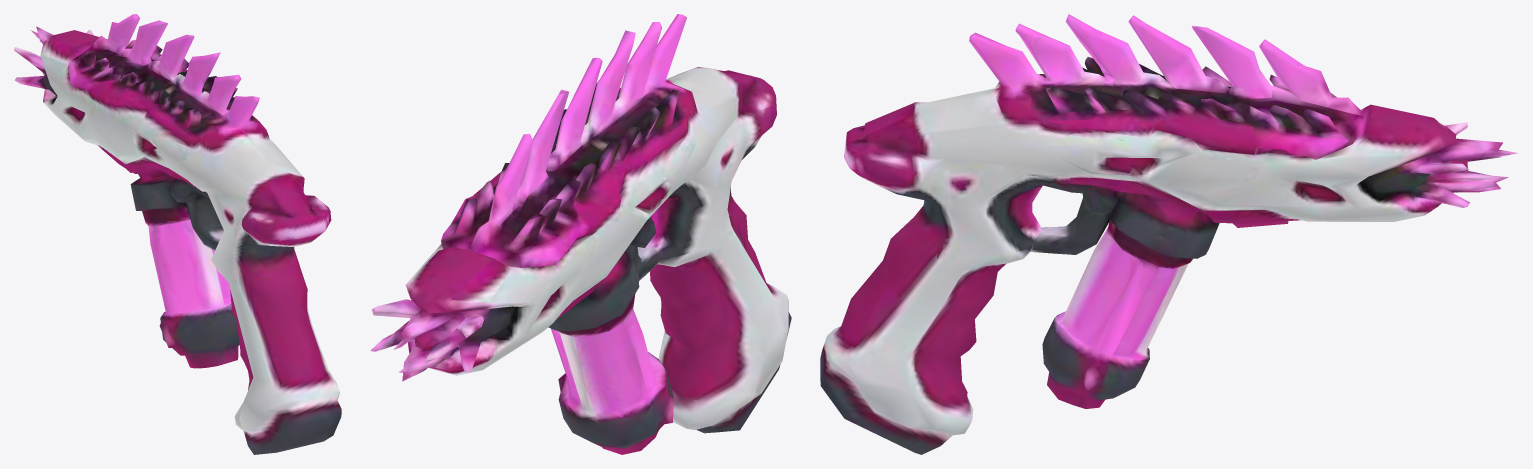
The model's file is gun-salve.glb.
The picture shows the model from 3 angles, left to right: view 1: azimuth 30°, elevation 25°; view 2: azimuth 150°, elevation 25°; view 3: azimuth 270°, elevation 25°; orthographic projection. The views are drawn at different scales.
Parts seen in each view (by area): view 1: gun-salve; view 2: gun-salve; view 3: gun-salve.
Boxes of the visible parts, box(x1,y1,x2,y2) form: gun-salve: box(14, 14, 341, 454); gun-salve: box(370, 14, 791, 454); gun-salve: box(820, 14, 1518, 454).
Bounding box in the file's own units: 0.1343 × 0.4774 × 0.7.
Materials: 1 (1 with a texture image).
